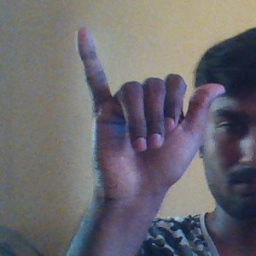J: (72, 27, 227, 193)
